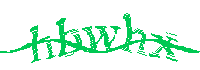b: (56, 16, 83, 58)
h: (123, 10, 148, 59), (30, 25, 55, 64)
w: (83, 23, 119, 52)
x: (151, 30, 177, 61)
